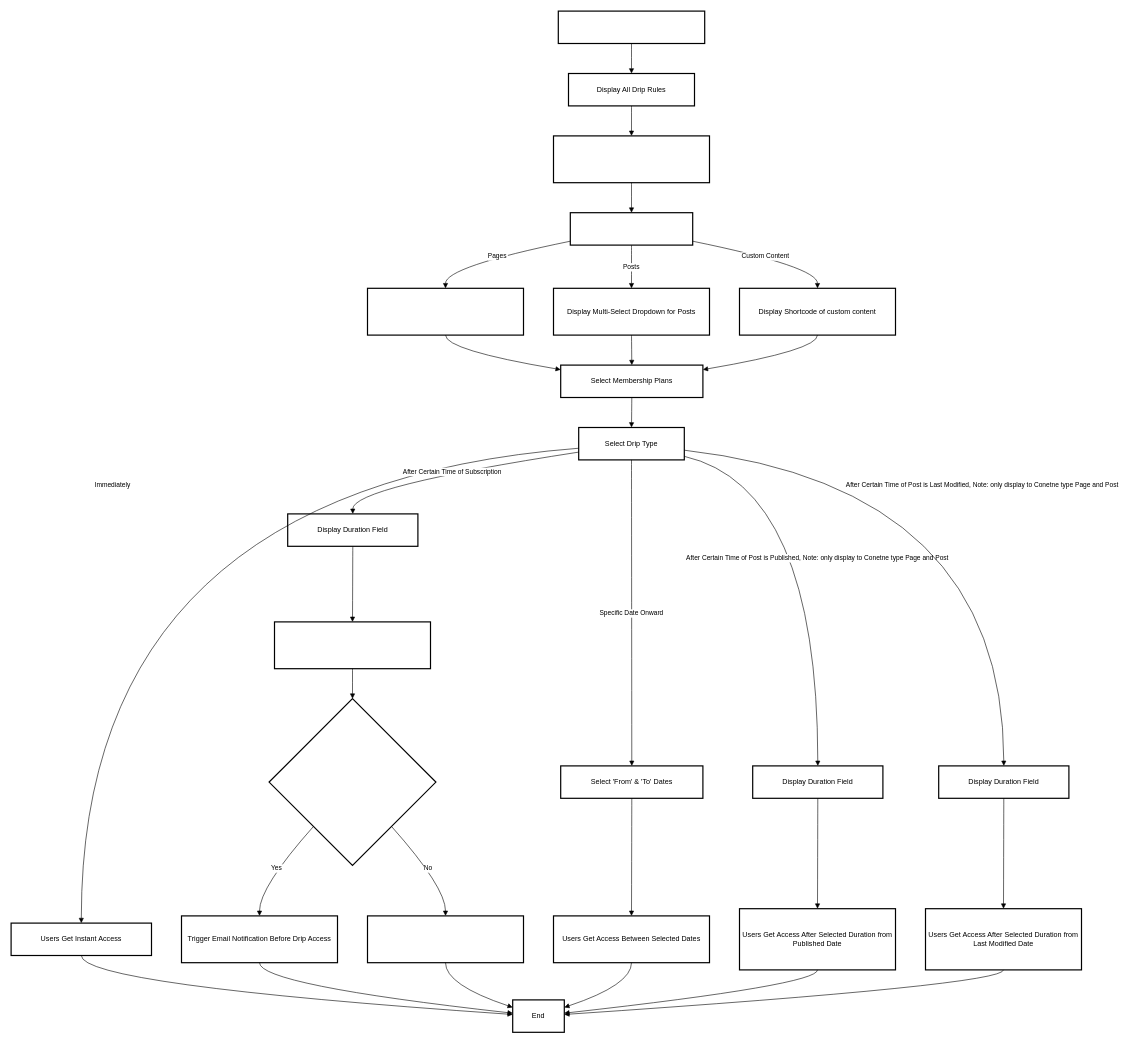
This 1129x1043 diagram has some shape labels left out. Each missing label, with the centre of its shape:
"Click 'Add Drip Rule' - Open Pop-up" goes at (x=631, y=159).
"Display Multi-Select Dropdown for Pages" goes at (x=445, y=311).
"Is Email Notification Set for Before Drip Rule?" goes at (x=352, y=782).
"Navigate to 'Drip Content'" goes at (x=631, y=27).
"Proceed Without Notification" goes at (x=445, y=939).
"Select Content Type" goes at (x=631, y=228).
"Users Get Access After Selected Duration" goes at (x=352, y=645).
